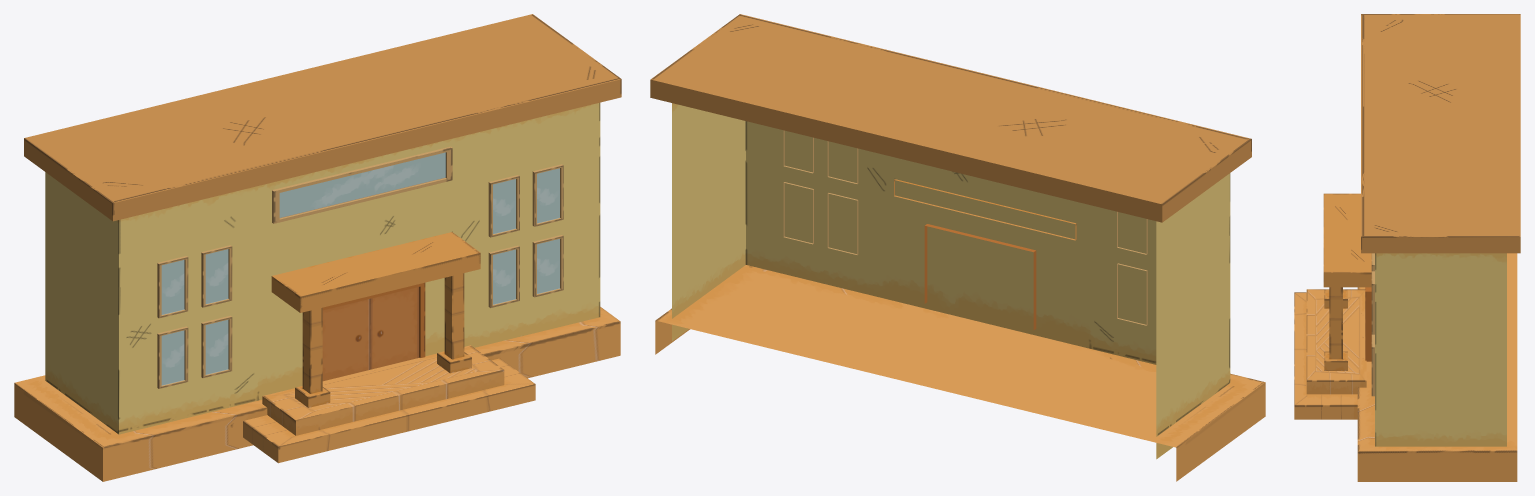
File: BUILD_Class2.fbx
3 renders of one model, left to right at view 1: azimuth 30°, elevation 25°; view 2: azimuth 150°, elevation 25°; view 3: azimuth 270°, elevation 25°, orthographic. The views are drawn at different scales.
Parts seen in each view (by area): view 1: Cube.039, Cube.063, Cube.040, Cube.058, Cube.041, Cube.057, Cube.061, Cube.062, Cube.060; view 2: Cube.039, Cube.063, Cube.040, Cube.061, Cube.041; view 3: Cube.039, Cube.063, Cube.058, Cube.041, Cube.057, Cube.060, Cube.040, Cube.061.
Boxes of the visible parts, box(x1,y1,x2,y2) form: Cube.039: box(24, 14, 621, 434); Cube.063: box(14, 307, 620, 481); Cube.040: box(157, 164, 563, 388); Cube.058: box(262, 345, 504, 435); Cube.041: box(271, 232, 480, 312); Cube.057: box(243, 358, 535, 463); Cube.061: box(322, 282, 425, 381); Cube.062: box(272, 146, 452, 223); Cube.060: box(295, 273, 471, 407); Cube.039: box(650, 14, 1251, 459); Cube.063: box(655, 265, 1265, 481); Cube.040: box(783, 130, 1147, 325); Cube.061: box(924, 224, 1036, 330); Cube.041: box(894, 179, 1076, 240); Cube.039: box(1361, 14, 1520, 446); Cube.063: box(1357, 253, 1517, 481); Cube.058: box(1306, 289, 1366, 394); Cube.041: box(1323, 193, 1371, 287); Cube.057: box(1294, 292, 1357, 419); Cube.060: box(1324, 287, 1347, 370); Cube.040: box(1371, 253, 1374, 396); Cube.061: box(1365, 287, 1371, 361).
Bounding box in the file's own units: 1638 × 825 × 688.
